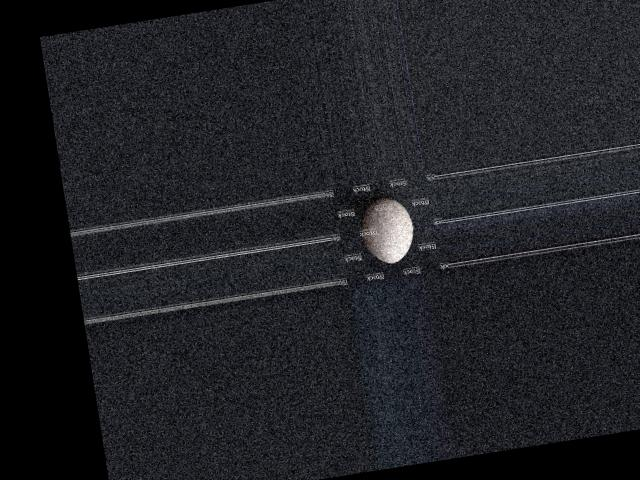egg: (357, 193, 417, 266)
